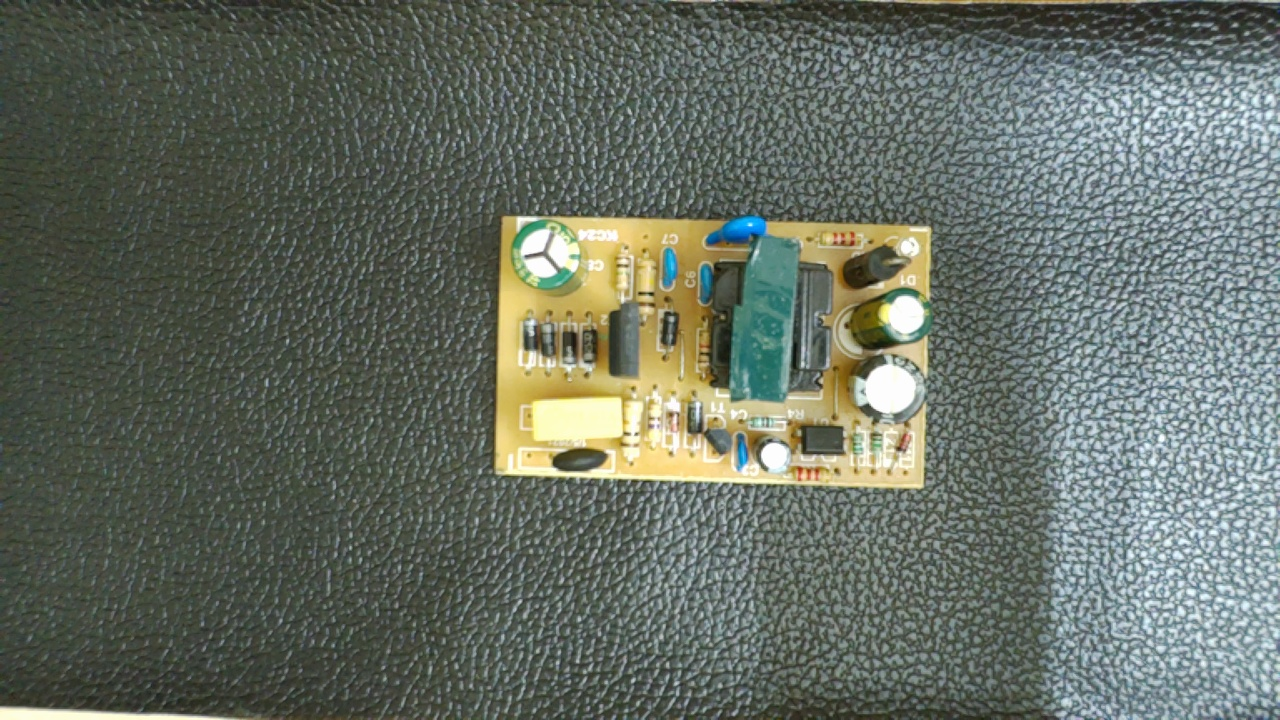fuse: (516, 446, 618, 477)
hv_capacitor: (507, 219, 594, 300)
mov: (698, 218, 777, 249)
optocoupler: (791, 422, 857, 461)
